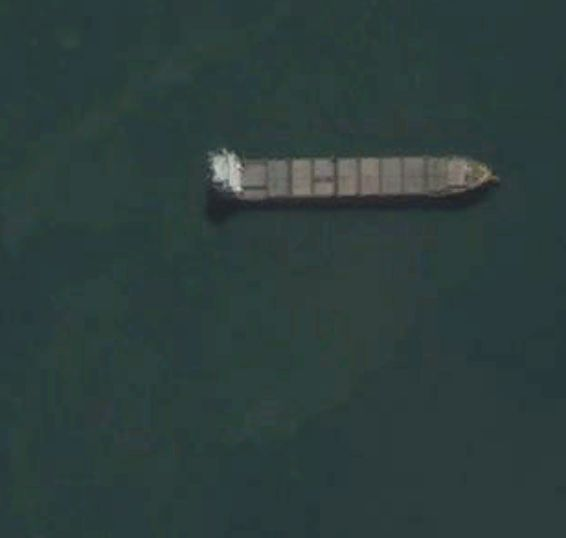boat: (200, 146, 504, 205)
